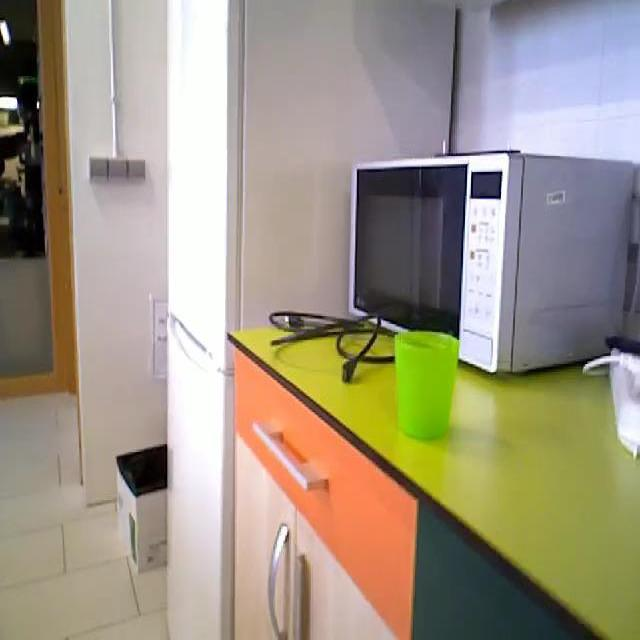cup: (392, 321, 458, 440)
